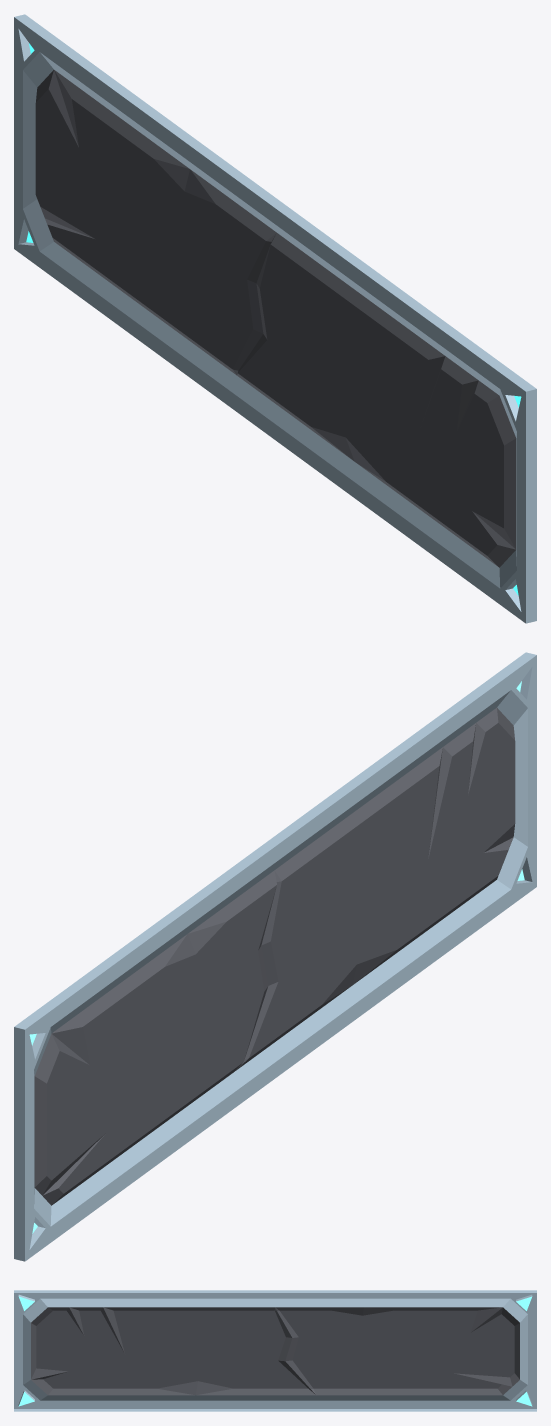
File: Trim_Small.fbx
The picture shows the model from 3 angles, top to bottom: view 1: azimuth 30°, elevation 25°; view 2: azimuth 150°, elevation 25°; view 3: azimuth 270°, elevation 25°; orthographic projection. The views are drawn at different scales.
Visible parts, largest first — view 1: Trim_Small; view 2: Trim_Small; view 3: Trim_Small.
Part boxes in pixels (bbox=[...]): Trim_Small: bbox=[14, 14, 536, 623]; Trim_Small: bbox=[14, 652, 536, 1261]; Trim_Small: bbox=[14, 1290, 536, 1411].
Size of the model in its own units: 0.05 by 1 by 4.
